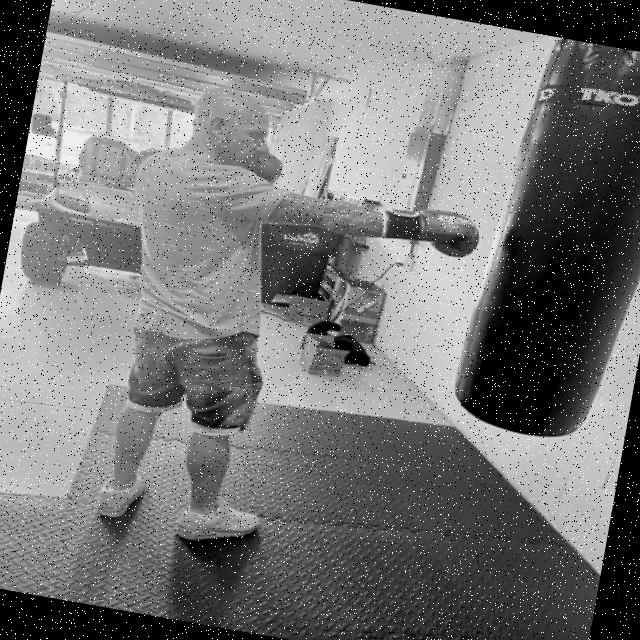punch: (112, 58, 516, 302)
